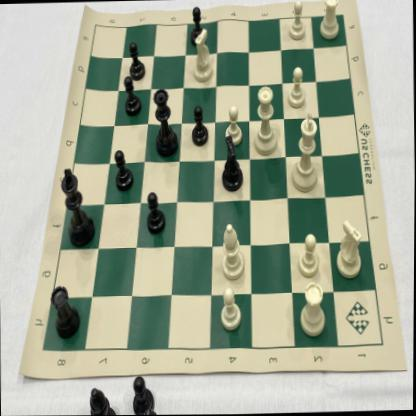black-king: (59, 163, 95, 251)
black-knight: (217, 135, 247, 194)
black-pawn: (142, 189, 168, 239), (189, 99, 212, 148), (112, 149, 135, 194), (122, 72, 144, 118), (126, 37, 147, 83), (186, 3, 206, 48)
black-queen: (150, 84, 181, 160)
black-rook: (48, 282, 82, 342)
white-bishop: (220, 219, 249, 282)
white-king: (288, 110, 322, 197)
white-knight: (334, 216, 367, 282), (188, 23, 218, 86)
white-pawn: (295, 231, 323, 281), (217, 285, 243, 334), (286, 63, 309, 112), (221, 103, 245, 146), (285, 0, 307, 40)
white-queen: (251, 79, 280, 160)
white-rook: (293, 279, 331, 342), (317, 0, 344, 43)
